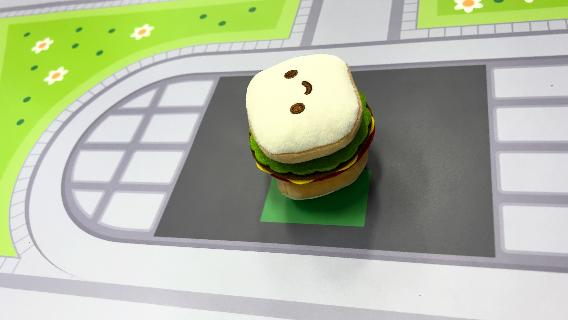sandwich: (243, 51, 378, 201)
